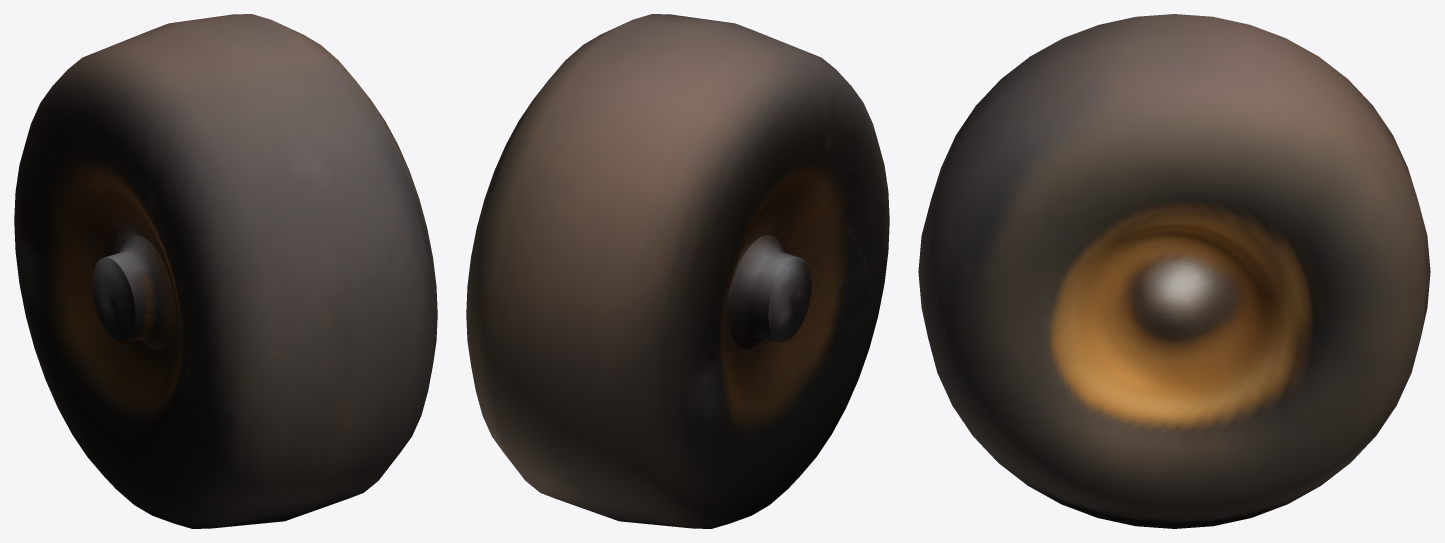
The picture shows the model from 3 angles, left to right: view 1: azimuth 30°, elevation 25°; view 2: azimuth 150°, elevation 25°; view 3: azimuth 270°, elevation 25°; orthographic projection.
Visible parts, largest first — view 1: wheel_FL; view 2: wheel_FL; view 3: wheel_FL.
Part boxes in pixels (<box>): wheel_FL: <box>14,14,437,528</box>; wheel_FL: <box>466,14,889,528</box>; wheel_FL: <box>918,14,1430,528</box>.
Bounding box in the file's own units: 0.161 × 0.306 × 0.306.
Materials: 1 (1 with a texture image).
